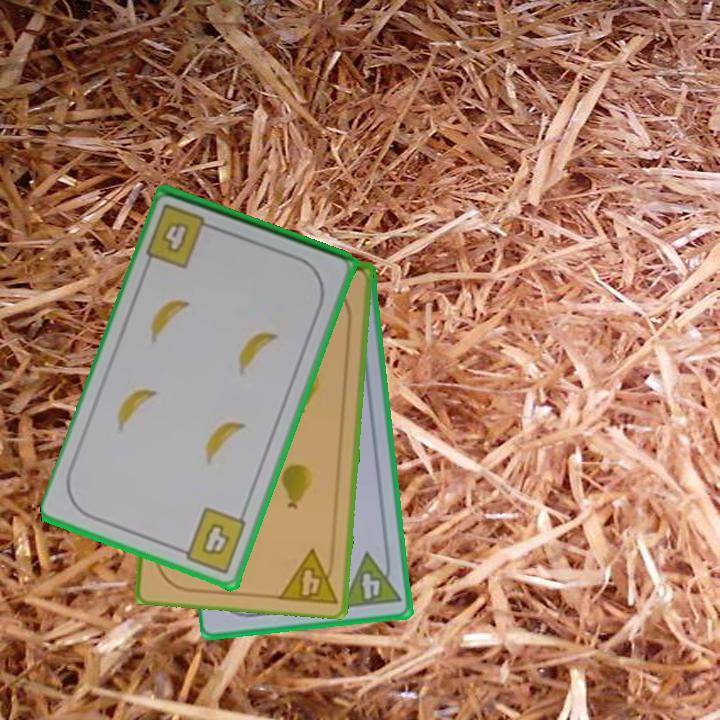4b: (173, 503, 250, 577), (143, 200, 221, 272)
4p: (338, 547, 404, 611), (275, 545, 340, 606)
